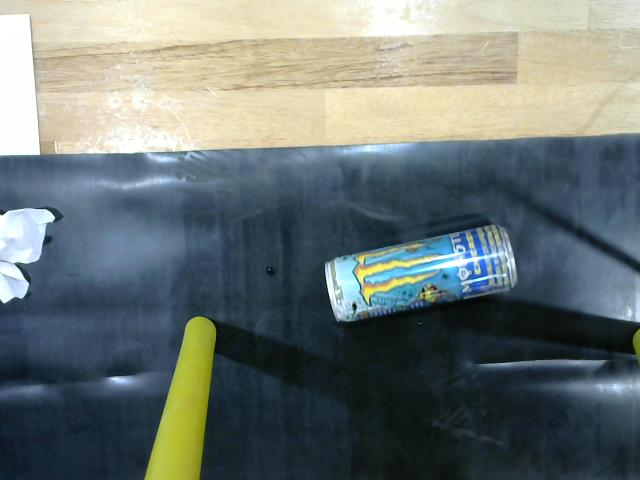can: (323, 211, 526, 332)
